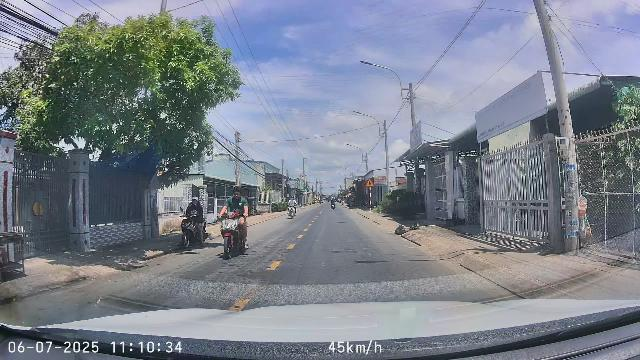207-giao-nhau-voi-duong-khong-uu-tien: (365, 178, 374, 186)
